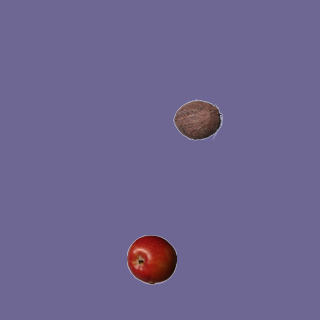Apple Braeburn: (126, 234, 176, 284)
Cocos: (172, 94, 222, 144)
